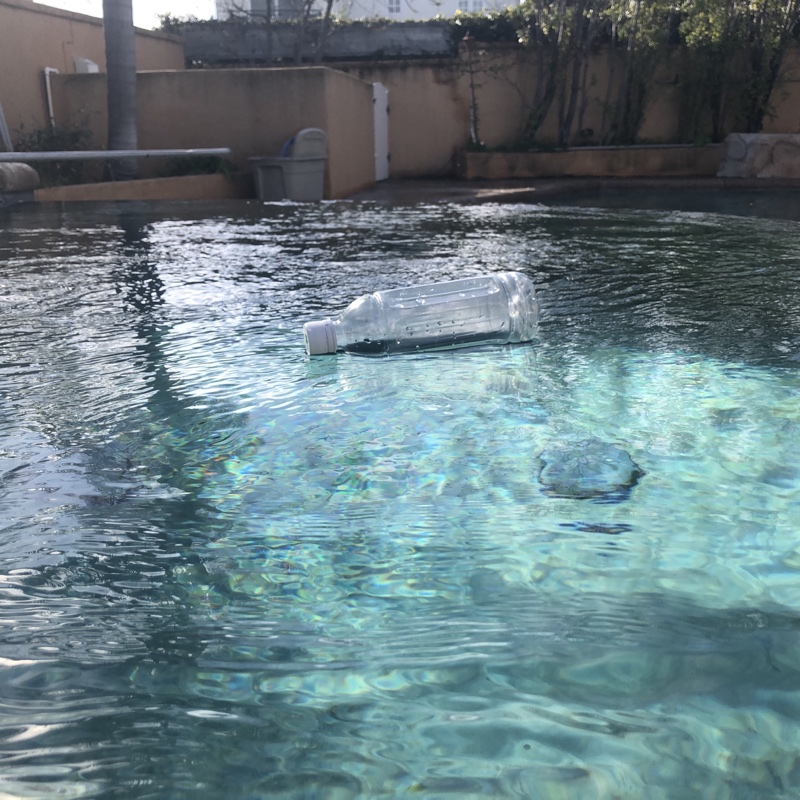Plastic Bottle: (300, 266, 545, 363)
